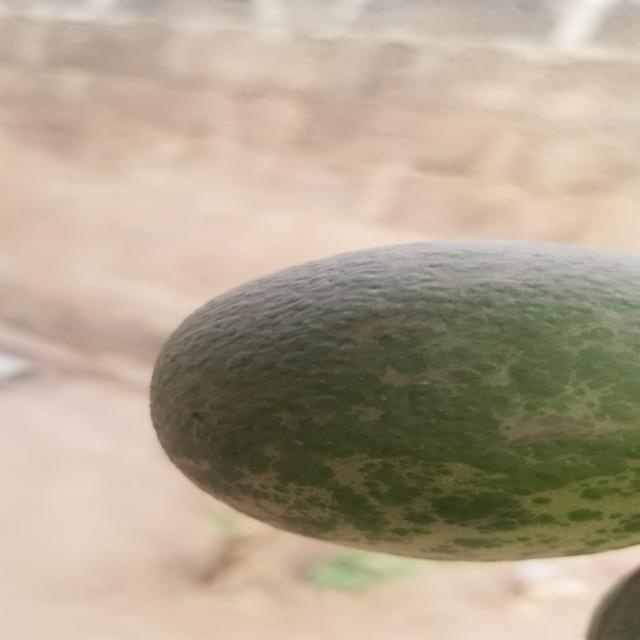agrume: (153, 243, 640, 560)
